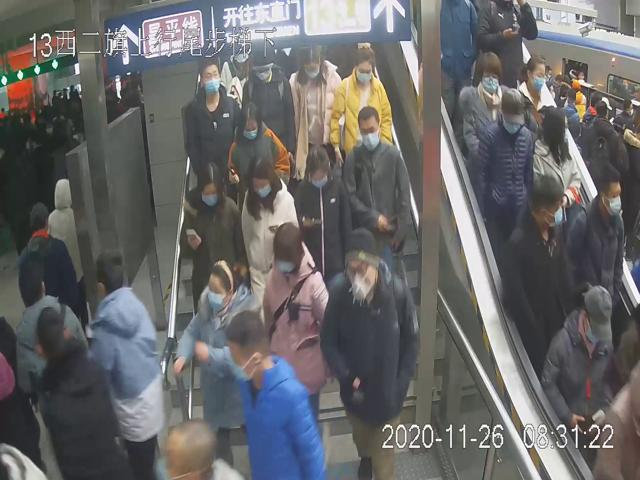person: (319, 228, 421, 480), (262, 219, 337, 471), (174, 258, 261, 461), (340, 104, 411, 267), (178, 162, 251, 307), (237, 154, 304, 300), (565, 166, 626, 309), (286, 41, 342, 184), (329, 44, 393, 166), (293, 144, 353, 271), (184, 60, 241, 188), (224, 101, 291, 200), (461, 49, 511, 165), (239, 49, 291, 150)
